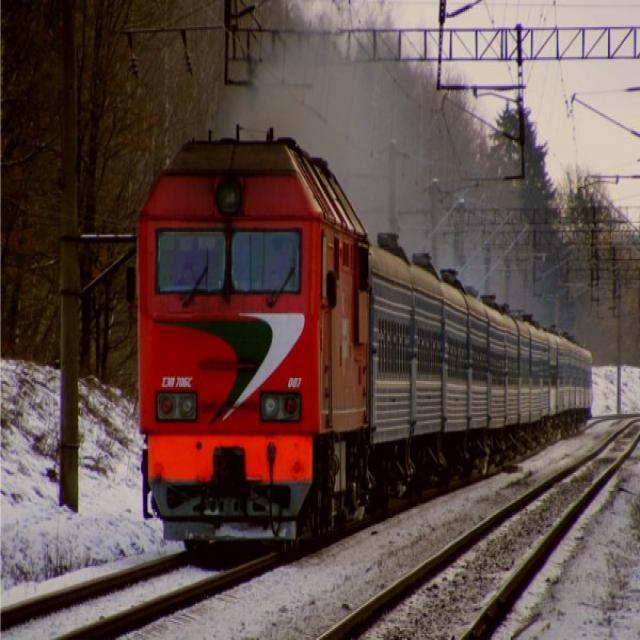trains: (134, 139, 593, 550)
